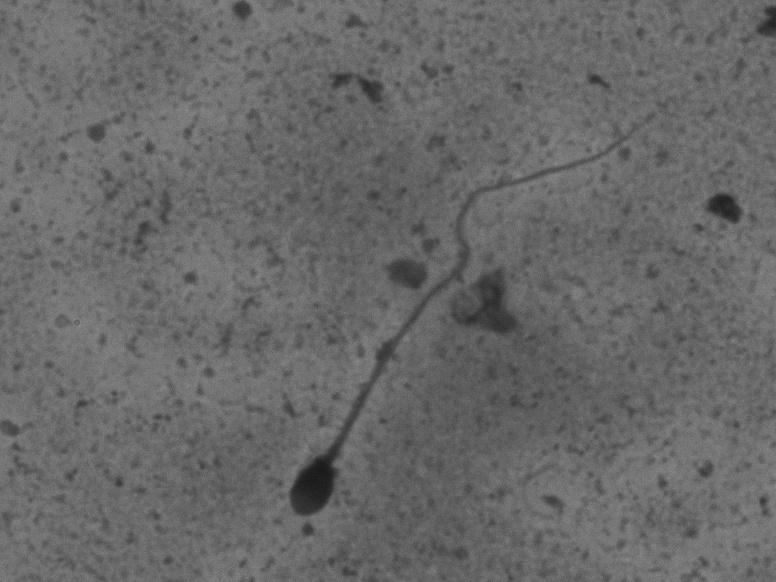Normal: (265, 86, 696, 525)
